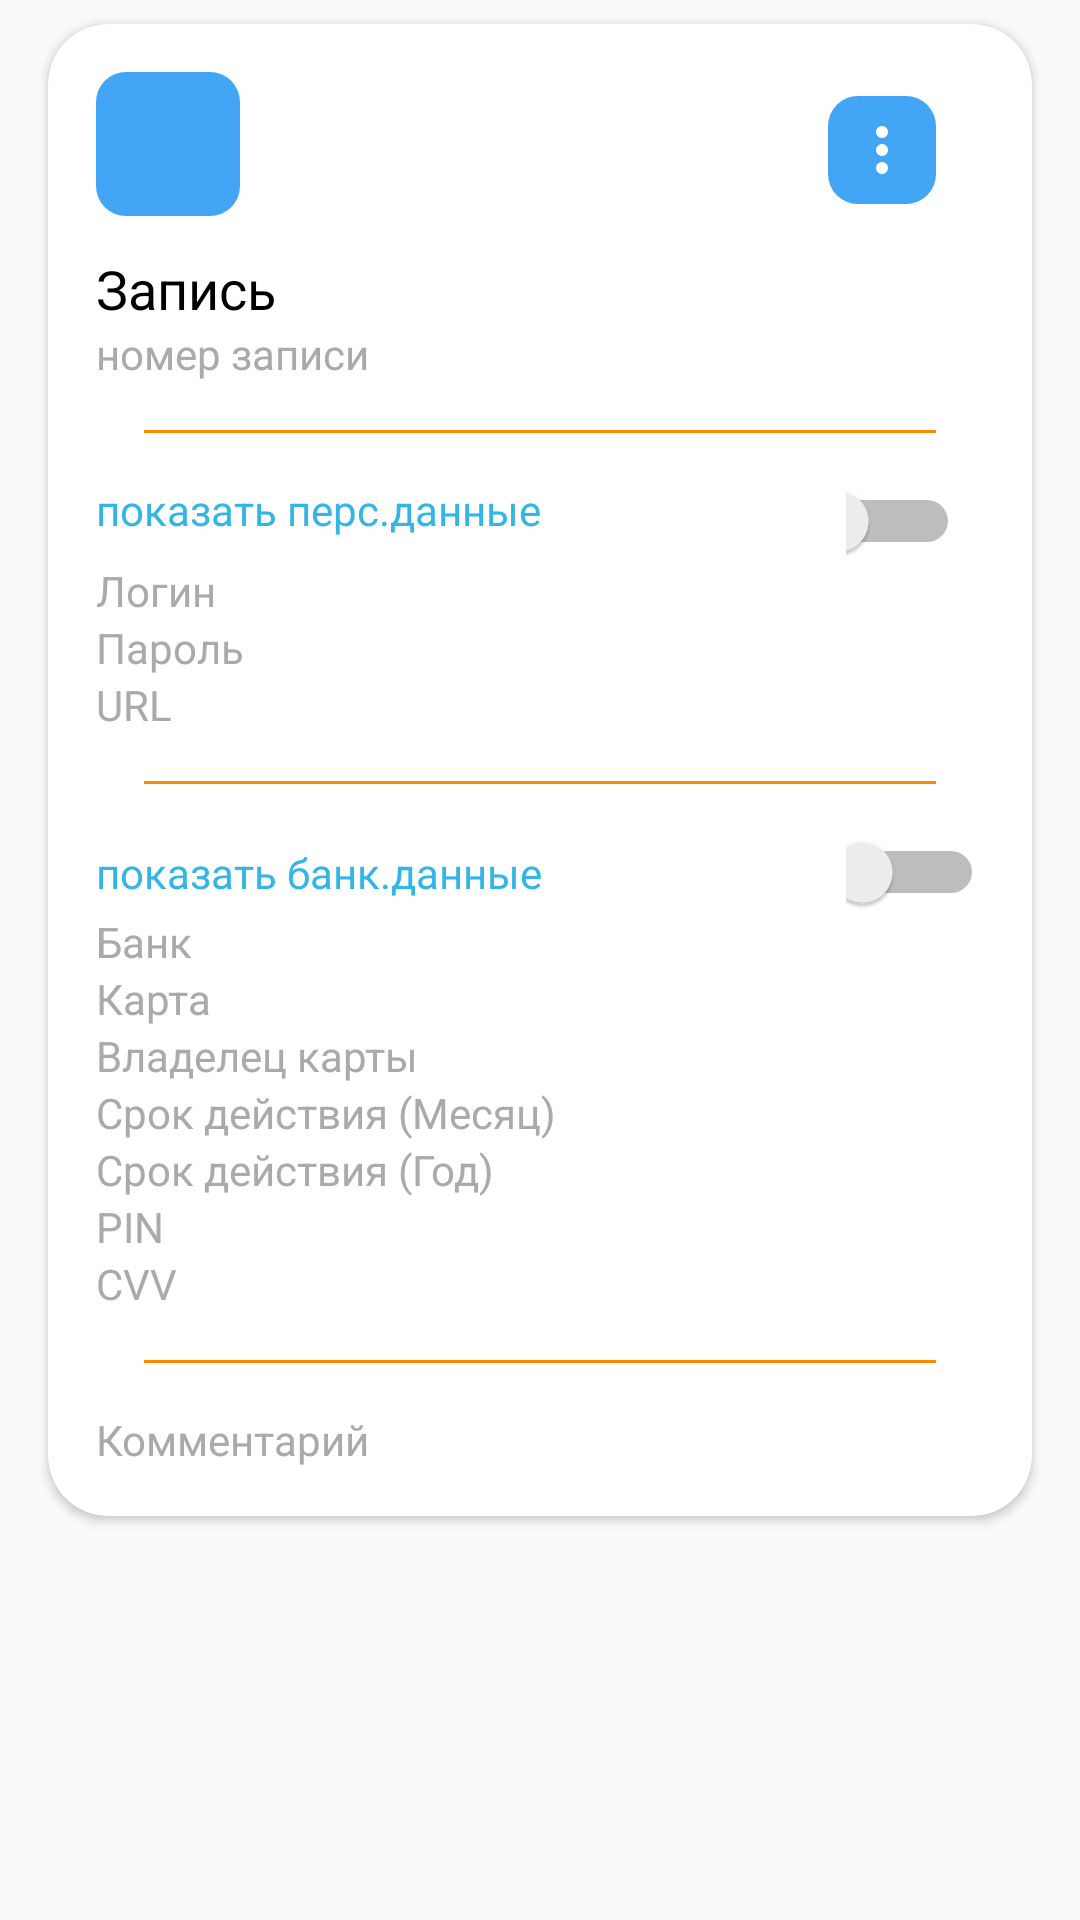

Locate icon controls on the screen. Image size 1080 × 1920, boxes as (x1, y1, x2, y2).
more vert: (828, 96, 936, 204)
